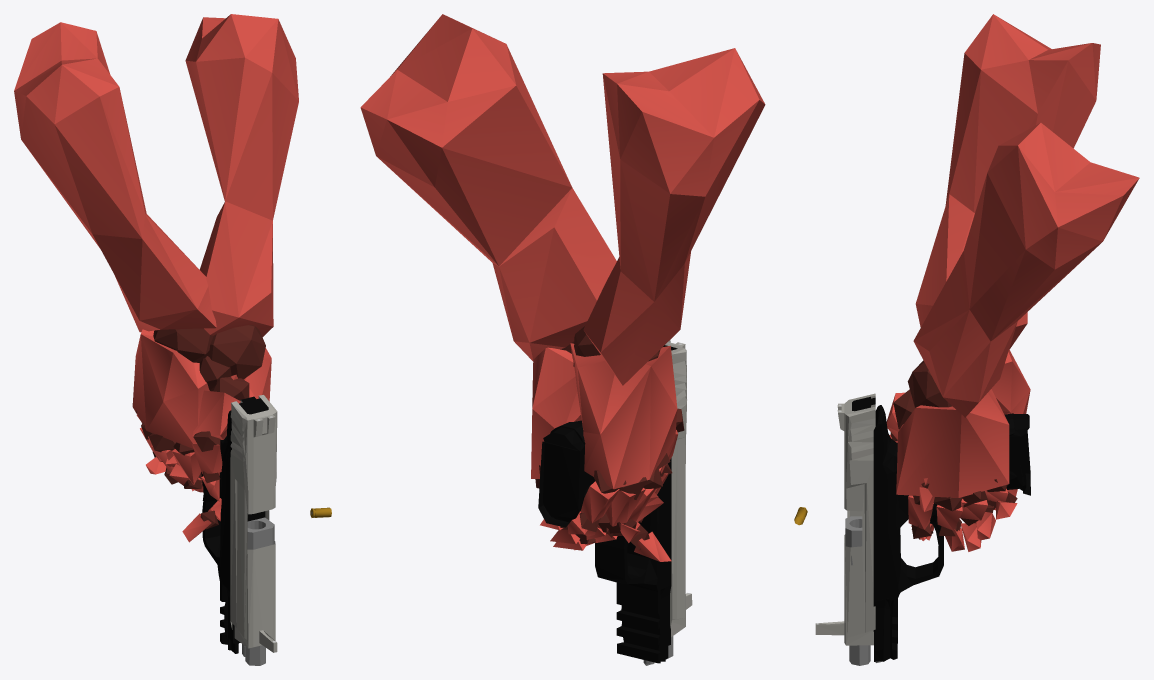
The model's file is M&P9shootLowP_000205.obj.
The picture shows the model from 3 angles, left to right: view 1: azimuth 30°, elevation 25°; view 2: azimuth 150°, elevation 25°; view 3: azimuth 270°, elevation 25°; orthographic projection. The views are drawn at different scales.
Visible parts, largest first — view 1: Beta_Surface.001_Beta_Surface.002, slide_平面.002, Beta_Joints.001_Beta_Joints.002, triger_平面.001; view 2: Beta_Surface.001_Beta_Surface.002, triger_平面.001, slide_平面.002, Beta_Joints.001_Beta_Joints.002; view 3: Beta_Surface.001_Beta_Surface.002, triger_平面.001, slide_平面.002, Beta_Joints.001_Beta_Joints.002.
Boxes of the visible parts, <box> form: Beta_Surface.001_Beta_Surface.002: <box>14,14,298,542</box>; slide_平面.002: <box>230,395,277,652</box>; Beta_Joints.001_Beta_Joints.002: <box>136,325,265,529</box>; triger_平面.001: <box>201,410,274,665</box>; Beta_Surface.001_Beta_Surface.002: <box>360,14,765,561</box>; triger_平面.001: <box>543,420,673,665</box>; slide_平面.002: <box>663,340,692,636</box>; Beta_Joints.001_Beta_Joints.002: <box>535,326,684,550</box>; Beta_Surface.001_Beta_Surface.002: <box>886,14,1139,551</box>; triger_平面.001: <box>845,405,1029,665</box>; slide_平面.002: <box>815,393,875,645</box>; Beta_Joints.001_Beta_Joints.002: <box>890,360,1017,539</box>.
Bounding box in the file's own units: 42.47 × 80.1 × 42.92.
